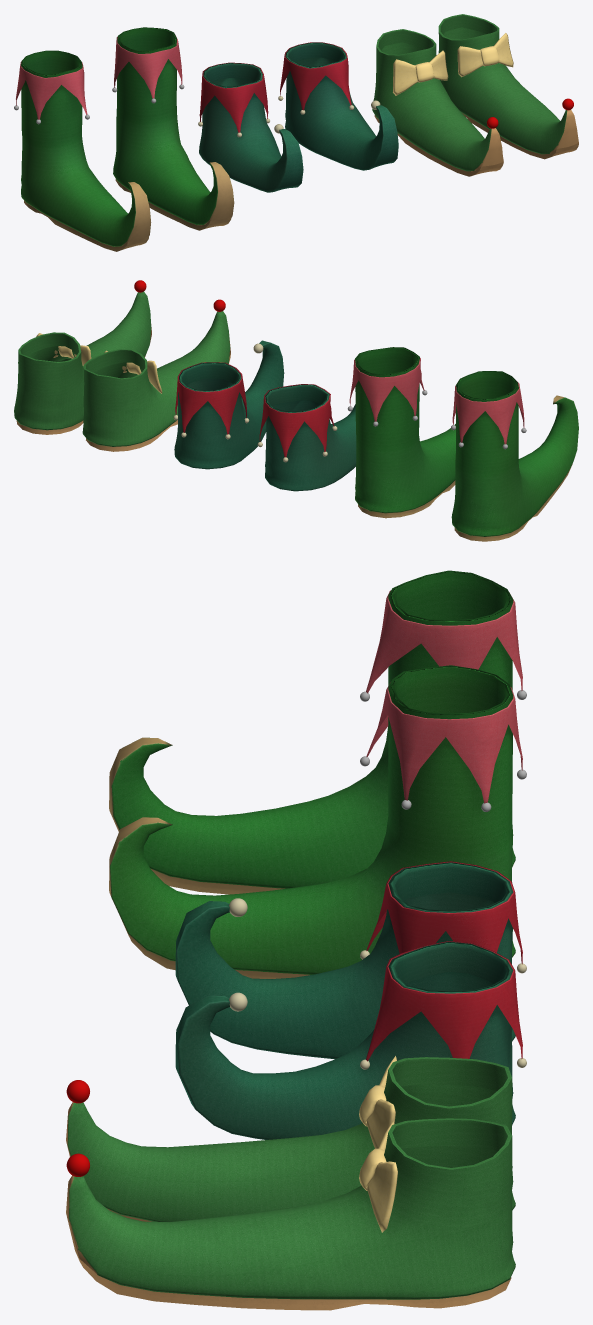
File: shoe.fbx
3 views of the same model, one above another, from view 1: azimuth 30°, elevation 25°; view 2: azimuth 150°, elevation 25°; view 3: azimuth 270°, elevation 25° (orthographic). The views are drawn at different scales.
Visible parts, largest first — view 1: polySurface1369 (×2), polySurface1372 (×2), polySurface1360 (×2), polySurface1368 (×2), polySurface1370 (×2), polySurface1374 (×2), polySurface1375 (×2); view 2: polySurface1369 (×2), polySurface1372 (×2), polySurface1360 (×2), polySurface1368 (×2), polySurface1370 (×2); view 3: polySurface1372 (×2), polySurface1369 (×2), polySurface1360 (×2), polySurface1370 (×2), polySurface1368 (×2), polySurface1374 (×2).
Part boxes in pixels (x1,y1,x2,y2): polySurface1369 (×2): [21, 27, 234, 251]; polySurface1372 (×2): [372, 14, 578, 176]; polySurface1360 (×2): [199, 42, 398, 192]; polySurface1368 (×2): [198, 42, 354, 137]; polySurface1370 (×2): [14, 35, 184, 124]; polySurface1374 (×2): [393, 33, 513, 95]; polySurface1375 (×2): [415, 46, 499, 82]; polySurface1369 (×2): [355, 347, 578, 541]; polySurface1372 (×2): [14, 291, 230, 451]; polySurface1360 (×2): [174, 340, 356, 491]; polySurface1368 (×2): [173, 362, 337, 462]; polySurface1370 (×2): [347, 358, 526, 449]; polySurface1372 (×2): [66, 1057, 515, 1310]; polySurface1369 (×2): [109, 570, 515, 978]; polySurface1360 (×2): [175, 862, 515, 1139]; polySurface1370 (×2): [360, 590, 526, 811]; polySurface1368 (×2): [360, 861, 526, 1069]; polySurface1374 (×2): [366, 1056, 397, 1232].
Size of the model in its own units: 38.22 by 10.69 by 15.91.
6 materials, 3 textured.
